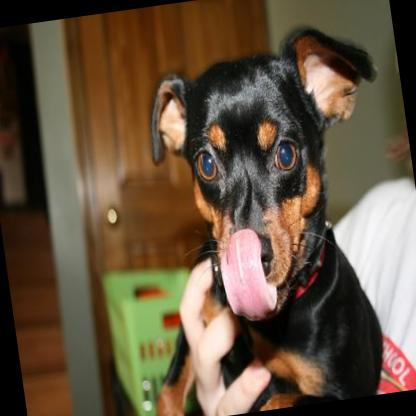miniature_pinscher: (104, 15, 416, 416)
